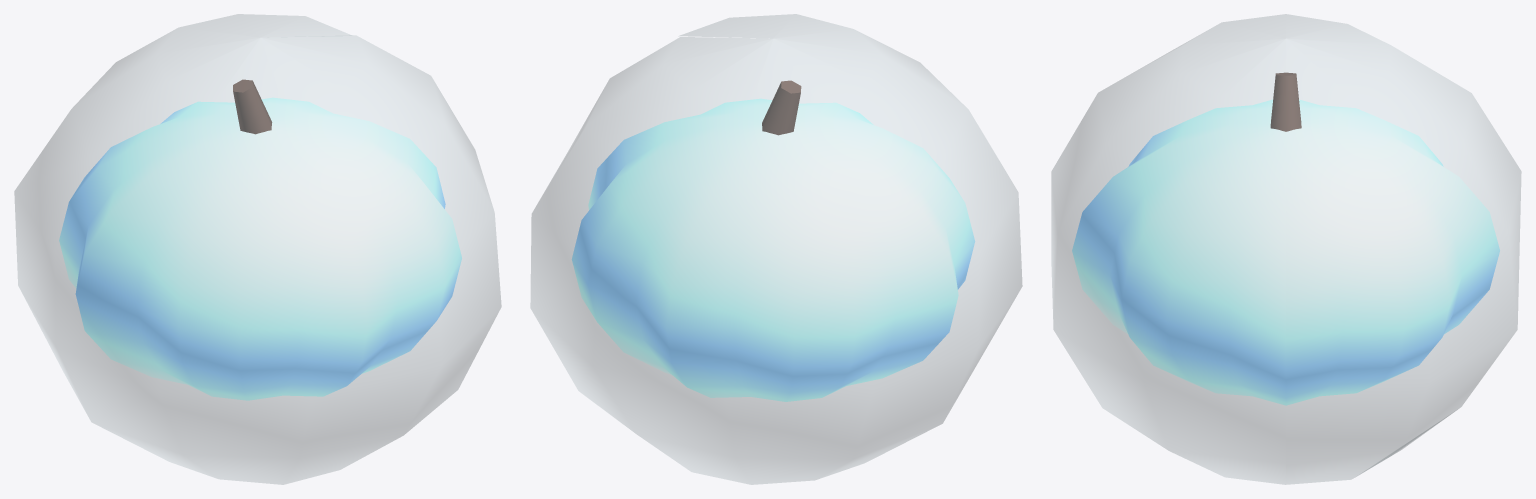
The model's file is fruit-pumpkin-frozen.gltf.
3 views of the same model, side by side, from view 1: azimuth 30°, elevation 25°; view 2: azimuth 150°, elevation 25°; view 3: azimuth 270°, elevation 25° (orthographic).
Bounding box in the file's own units: 1.23 × 1.18 × 1.19.
